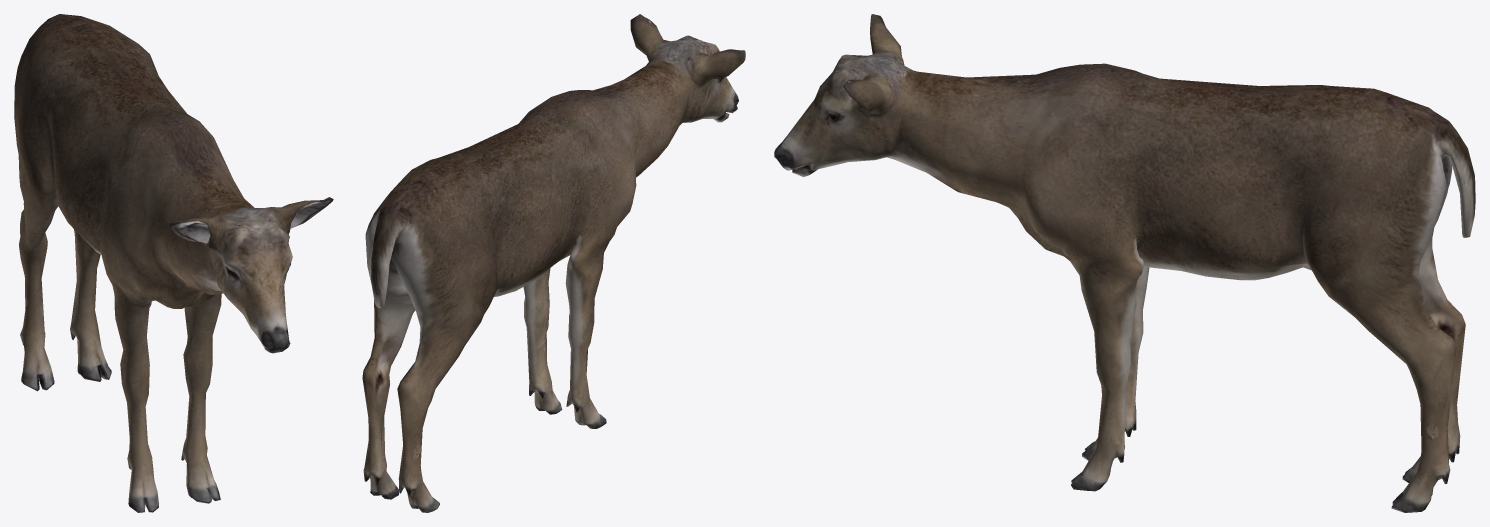
The model's file is doe.glb.
The picture shows the model from 3 angles, left to right: view 1: azimuth 30°, elevation 25°; view 2: azimuth 150°, elevation 25°; view 3: azimuth 270°, elevation 25°; orthographic projection. The views are drawn at different scales.
Parts seen in each view (by area): view 1: Deer_M001_M_Deer001_0_M_Deer001_0; view 2: Deer_M001_M_Deer001_0_M_Deer001_0; view 3: Deer_M001_M_Deer001_0_M_Deer001_0.
Part boxes in pixels (bbox=[...]): Deer_M001_M_Deer001_0_M_Deer001_0: bbox=[14, 14, 333, 512]; Deer_M001_M_Deer001_0_M_Deer001_0: bbox=[362, 14, 745, 512]; Deer_M001_M_Deer001_0_M_Deer001_0: bbox=[774, 14, 1475, 512].
Bounding box in the file's own units: 0.831 × 1.49 × 2.34.
Materials: 1 (1 with a texture image).
